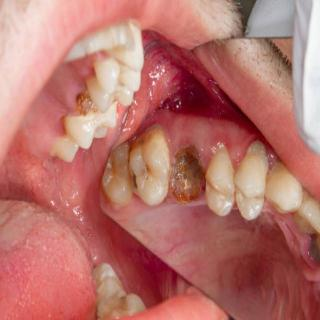Gum Swelling: (170, 122, 258, 162)
calculus: (243, 132, 275, 170), (136, 123, 176, 149), (305, 235, 320, 269)
cavities: (126, 148, 166, 202)
